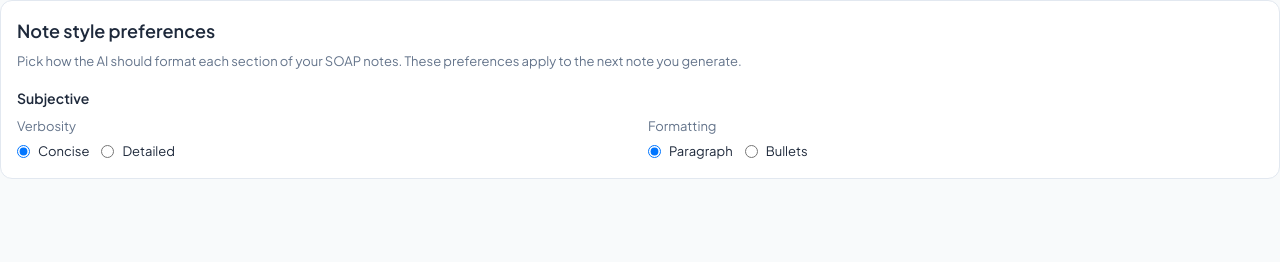
NoteStylePreferencesSection › reverts optimistic local state when action returns an error (Rule 2)
This screenshot has width=1280, height=262.
Click the radio button labelled "detailed" at point(108, 152), box x1=101 y1=145 x2=114 y2=158
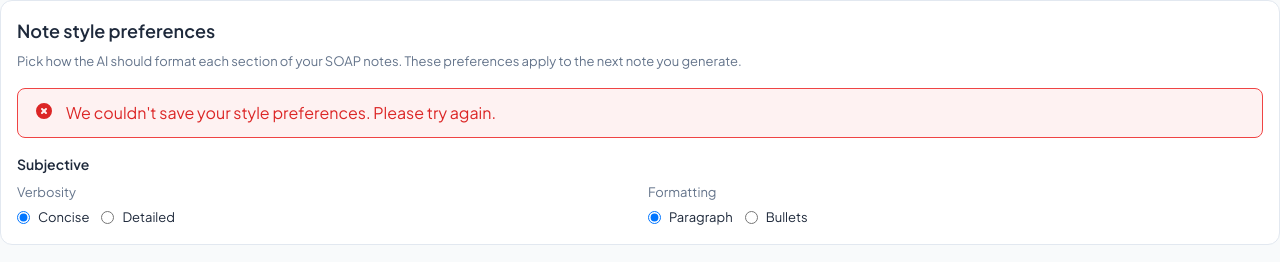
Check: the radio button labelled "concise" is checked, box x1=17 y1=211 x2=30 y2=224
Check: the text "We couldn't save your style preferences. Please try again." is shown, box x1=66 y1=102 x2=496 y2=122
